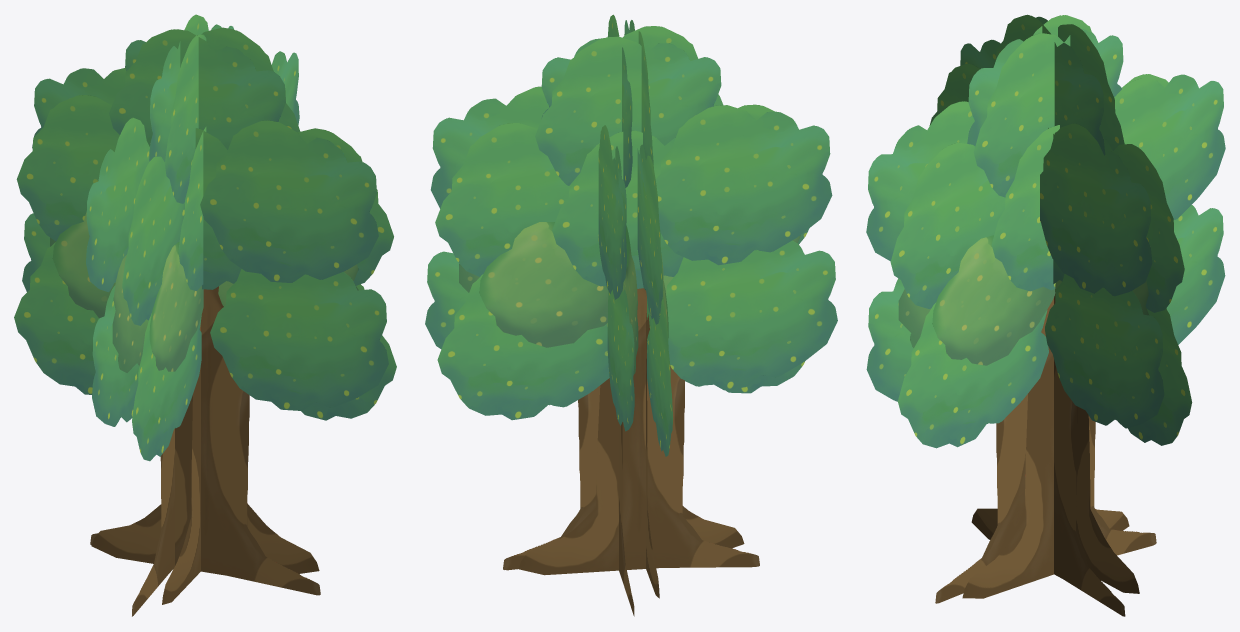
The model's file is Arbol_2.fbx.
3 views of the same model, side by side, from view 1: azimuth 30°, elevation 25°; view 2: azimuth 150°, elevation 25°; view 3: azimuth 270°, elevation 25° (orthographic). The views are drawn at different scales.
Visible parts, largest first — view 1: Plane.002; view 2: Plane.002; view 3: Plane.002.
Boxes of the visible parts, box(x1,y1,x2,y2) form: Plane.002: box(14, 14, 396, 616); Plane.002: box(425, 14, 837, 616); Plane.002: box(866, 14, 1225, 616).
Size of the model in its own units: 307 by 513 by 305.
3 materials, 3 textured.
